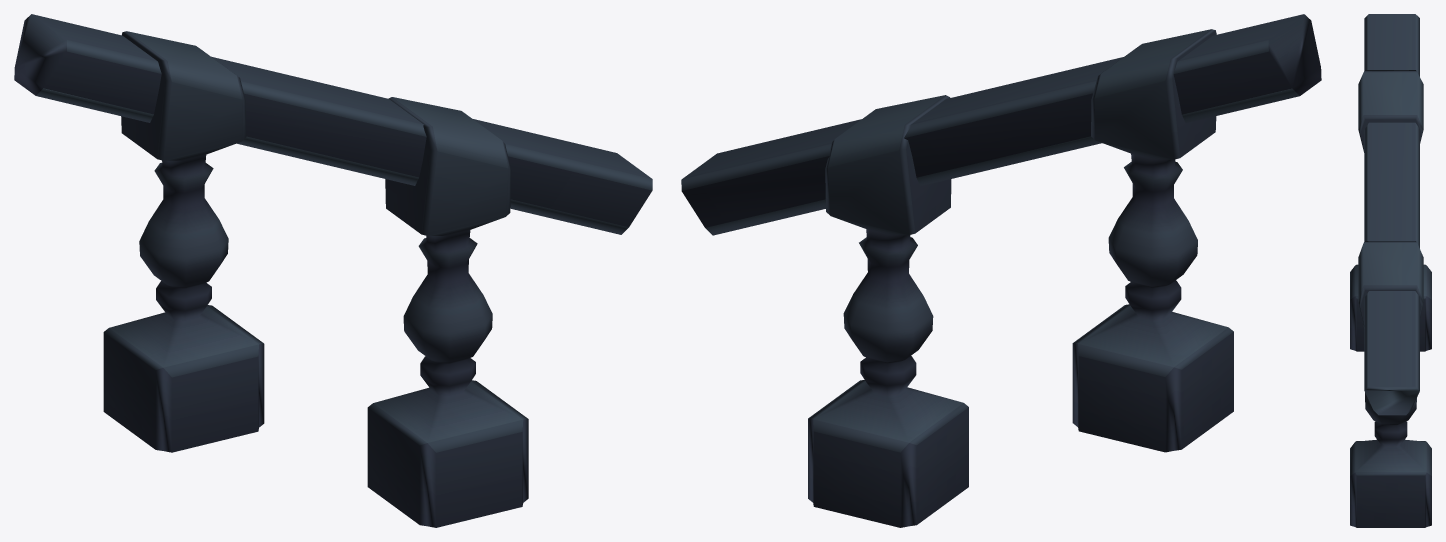
File: Modular_Dungeon_Railing_Diag_Middle.fbx
3 views of the same model, side by side, from view 1: azimuth 30°, elevation 25°; view 2: azimuth 150°, elevation 25°; view 3: azimuth 270°, elevation 25° (orthographic). The views are drawn at different scales.
Visible parts, largest first — view 1: Railing_Diag_Middle; view 2: Railing_Diag_Middle; view 3: Railing_Diag_Middle.
Part boxes in pixels (left/top/right/bottom): Railing_Diag_Middle: left=14, top=14, right=652, bottom=527; Railing_Diag_Middle: left=681, top=14, right=1321, bottom=527; Railing_Diag_Middle: left=1350, top=14, right=1431, bottom=527.
Bounding box in the file's own units: 3.34 × 2.95 × 0.5918.
1 material, 1 textured.
